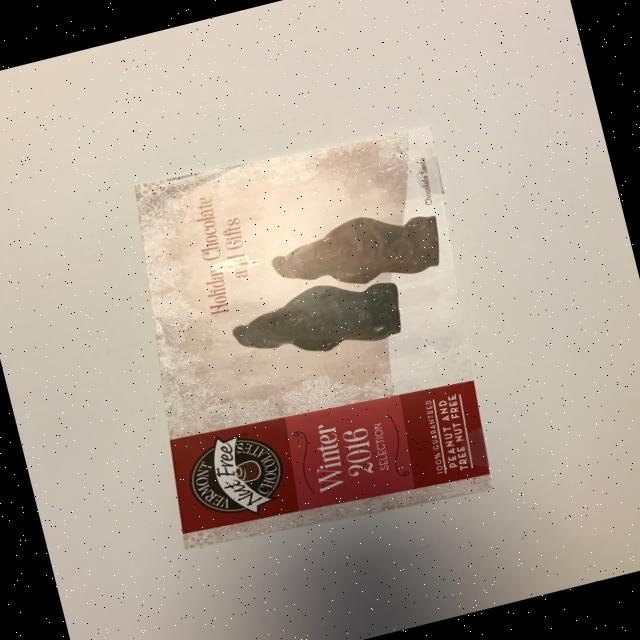paper: (96, 111, 518, 563)
